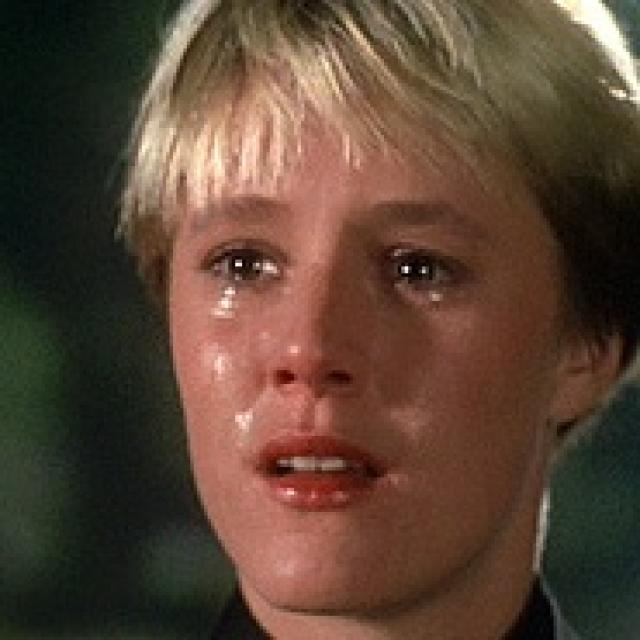Depress: (170, 64, 570, 623)
